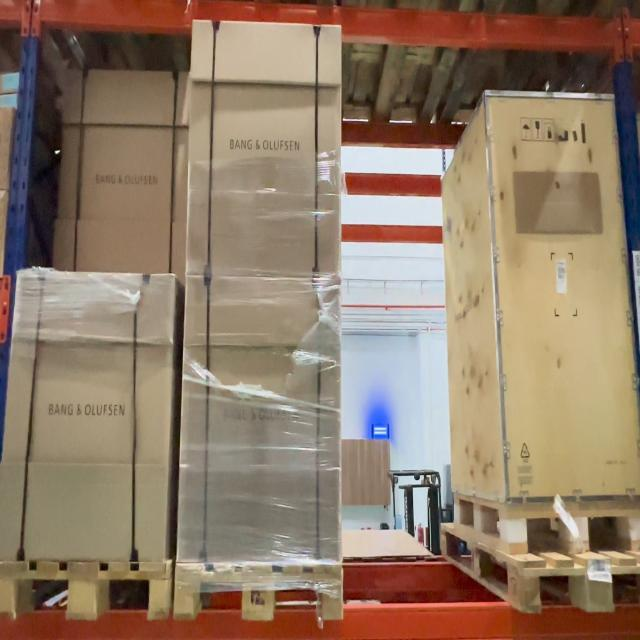box: (188, 279, 336, 552), (194, 29, 336, 269), (67, 74, 184, 269)
